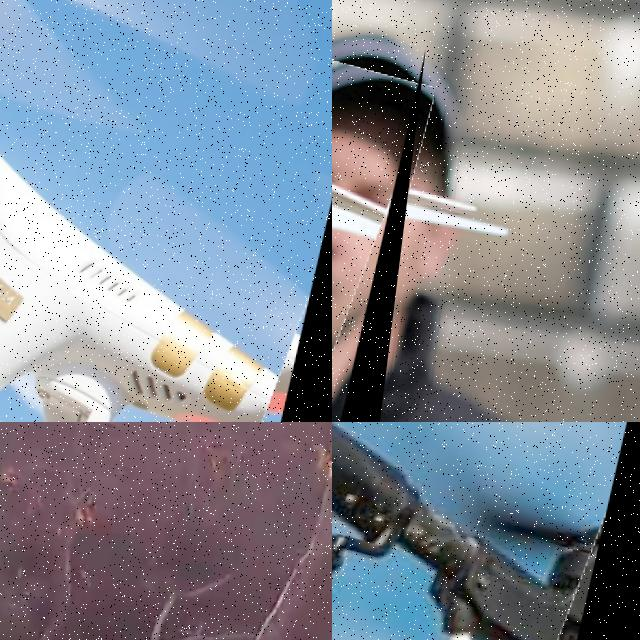0: (332, 2, 425, 422)
drone: (0, 0, 332, 422), (332, 422, 640, 640)
